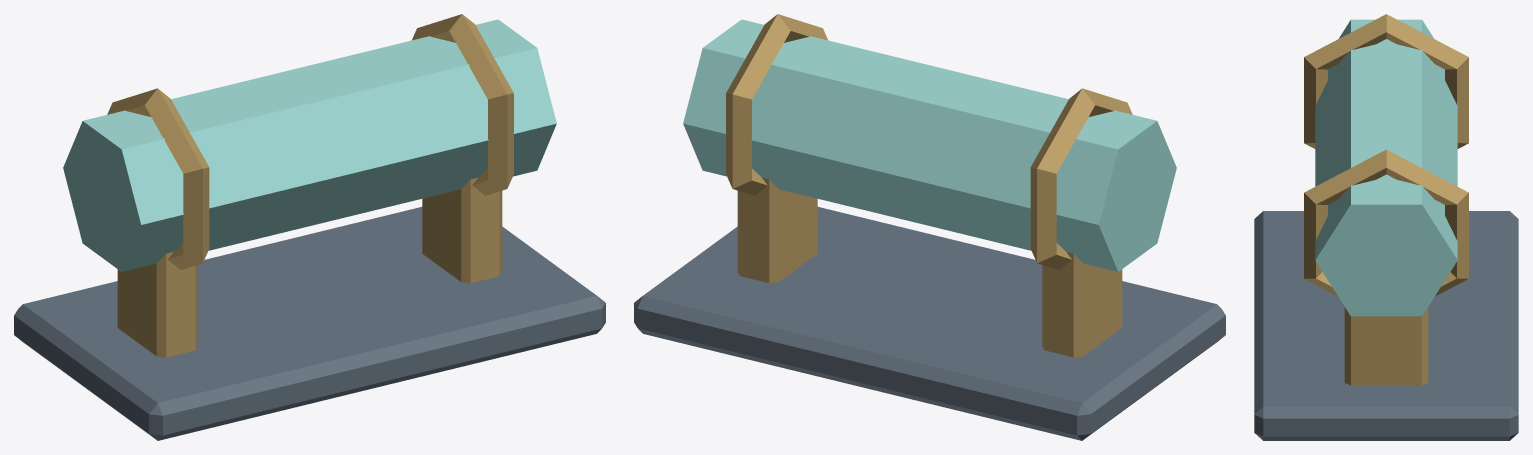
Rendered from 11_Prism_Focus.glb.
The picture shows the model from 3 angles, left to right: view 1: azimuth 30°, elevation 25°; view 2: azimuth 150°, elevation 25°; view 3: azimuth 270°, elevation 25°; orthographic projection. The views are drawn at different scales.
Parts seen in each view (by area): view 1: 11_Prism_Focus__Body; view 2: 11_Prism_Focus__Body; view 3: 11_Prism_Focus__Body.
Boxes of the visible parts, x1,y1,x2,y2 form: 11_Prism_Focus__Body: (14, 14, 605, 440); 11_Prism_Focus__Body: (634, 14, 1225, 440); 11_Prism_Focus__Body: (1254, 14, 1518, 440).
Bounding box in the file's own units: 1.89 × 1.13 × 1.04.
Materials: 1 (1 with a texture image).
